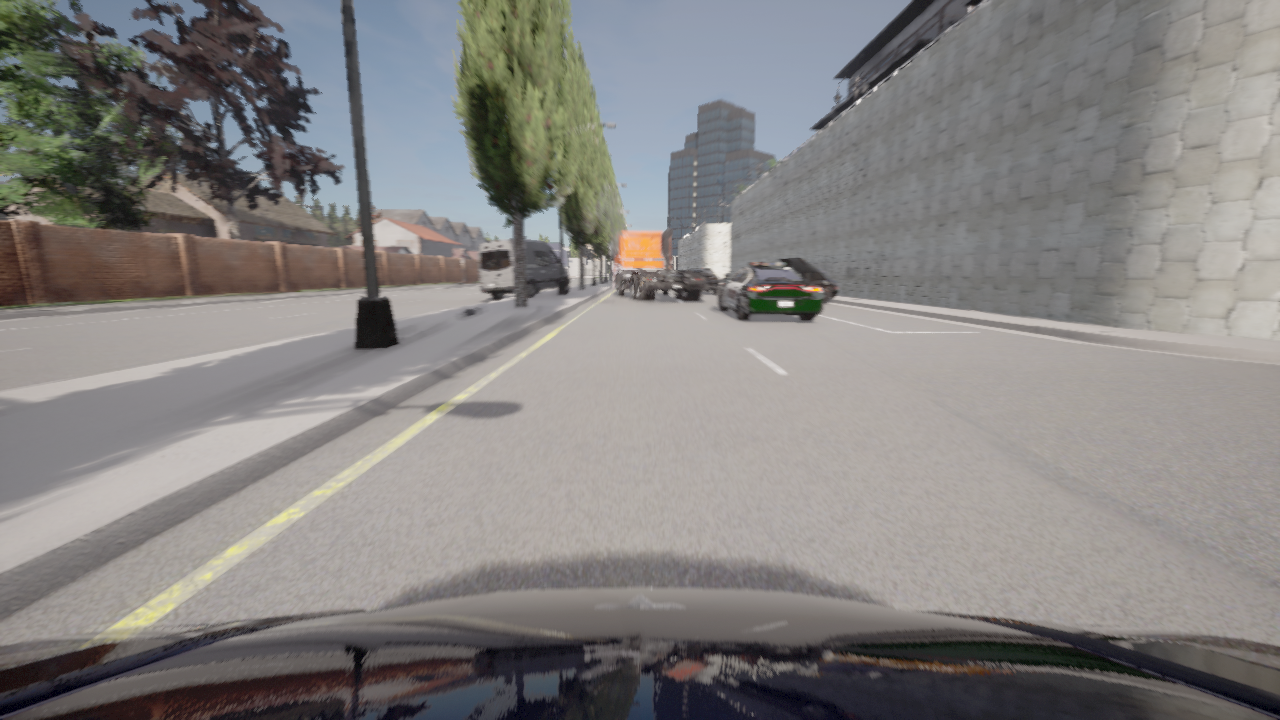cyclist: (0, 588, 1279, 719), (609, 229, 706, 301), (718, 263, 823, 320), (478, 239, 568, 298), (767, 257, 838, 303), (688, 268, 718, 293)
